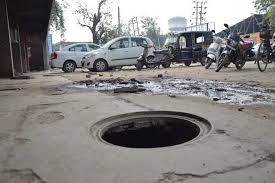Manhole-Open: (91, 97, 226, 159)
